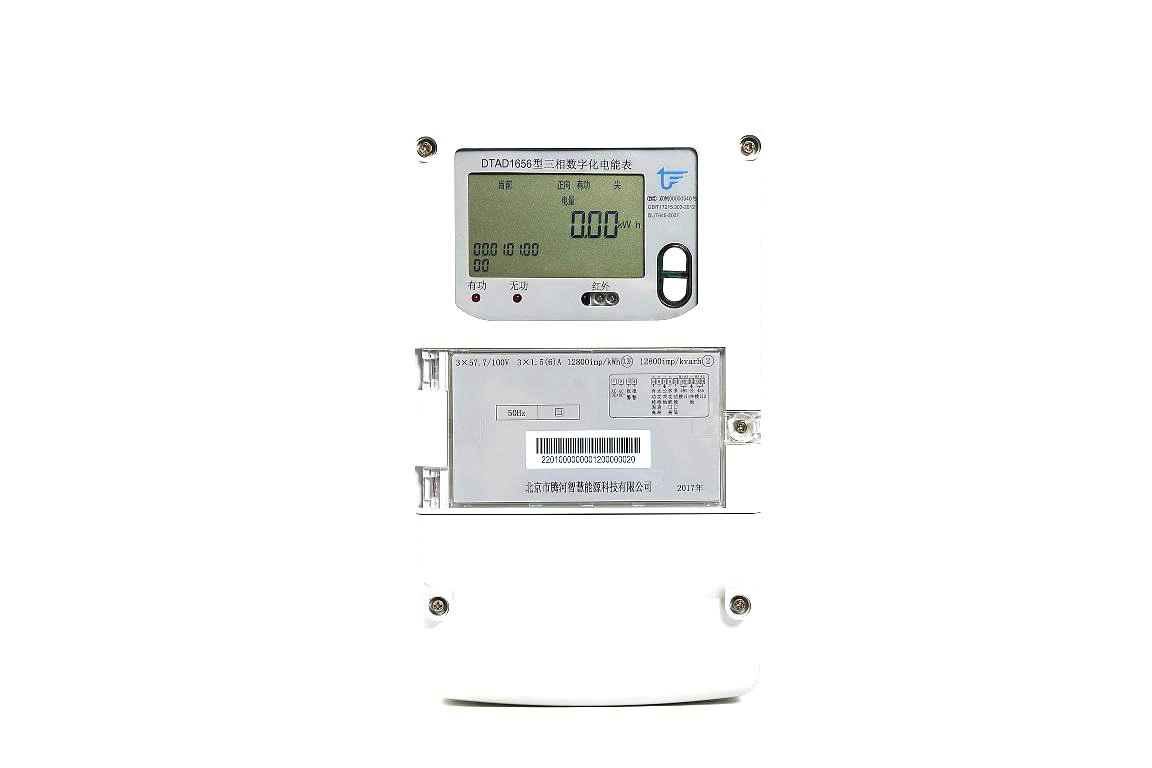digital: (380, 125, 764, 704)
